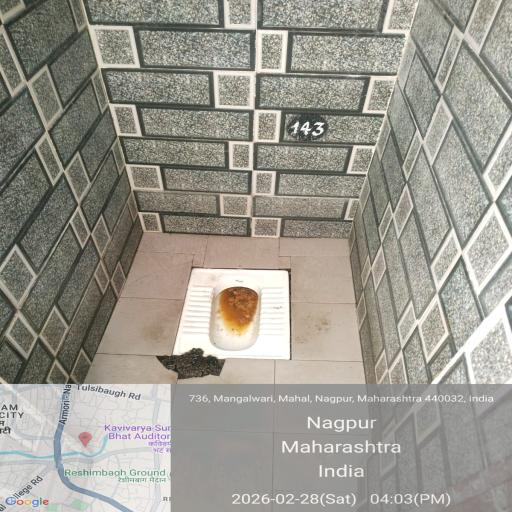dirty_indian: (168, 269, 315, 371)
partial_dirty_floor: (106, 236, 383, 512), (44, 54, 472, 214)
